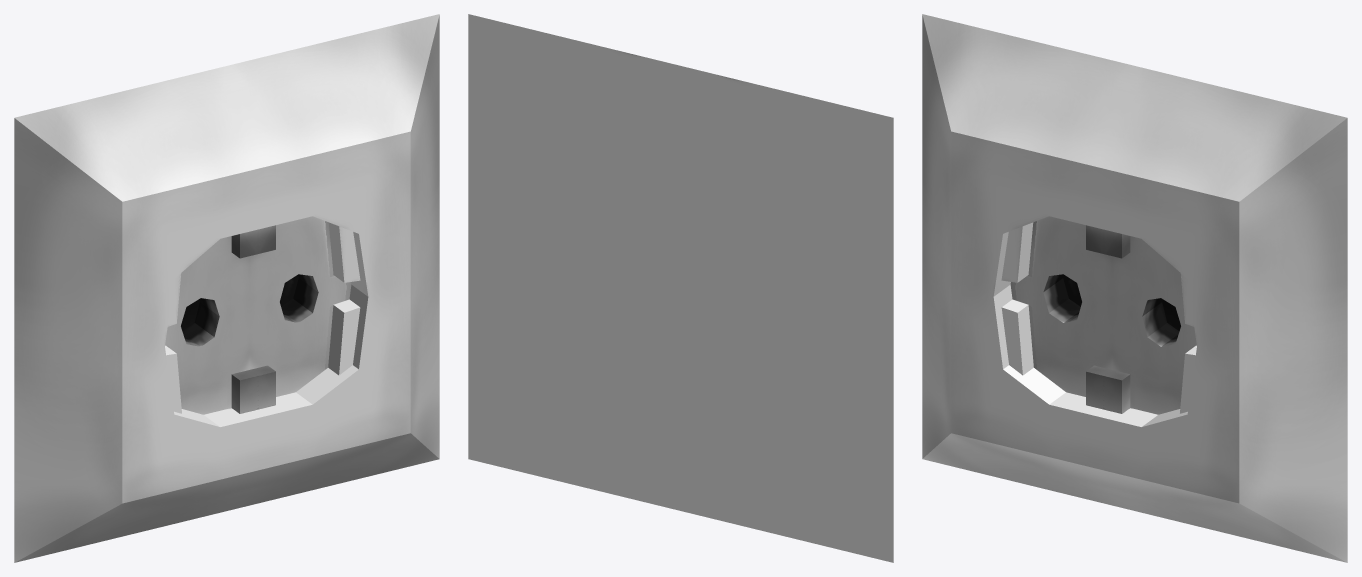
The model's file is enchufe.fbx.
3 renders of one model, left to right at view 1: azimuth 30°, elevation 25°; view 2: azimuth 150°, elevation 25°; view 3: azimuth 330°, elevation 25°, orthographic.
Parts seen in each view (by area): view 1: Cube; view 2: Cube; view 3: Cube.
Part boxes in pixels (x1,y1,x2,y2): Cube: [14, 14, 439, 562]; Cube: [468, 14, 893, 562]; Cube: [922, 14, 1347, 562].
Size of the model in its own units: 200 by 200 by 32.32.
1 material, 1 textured.
